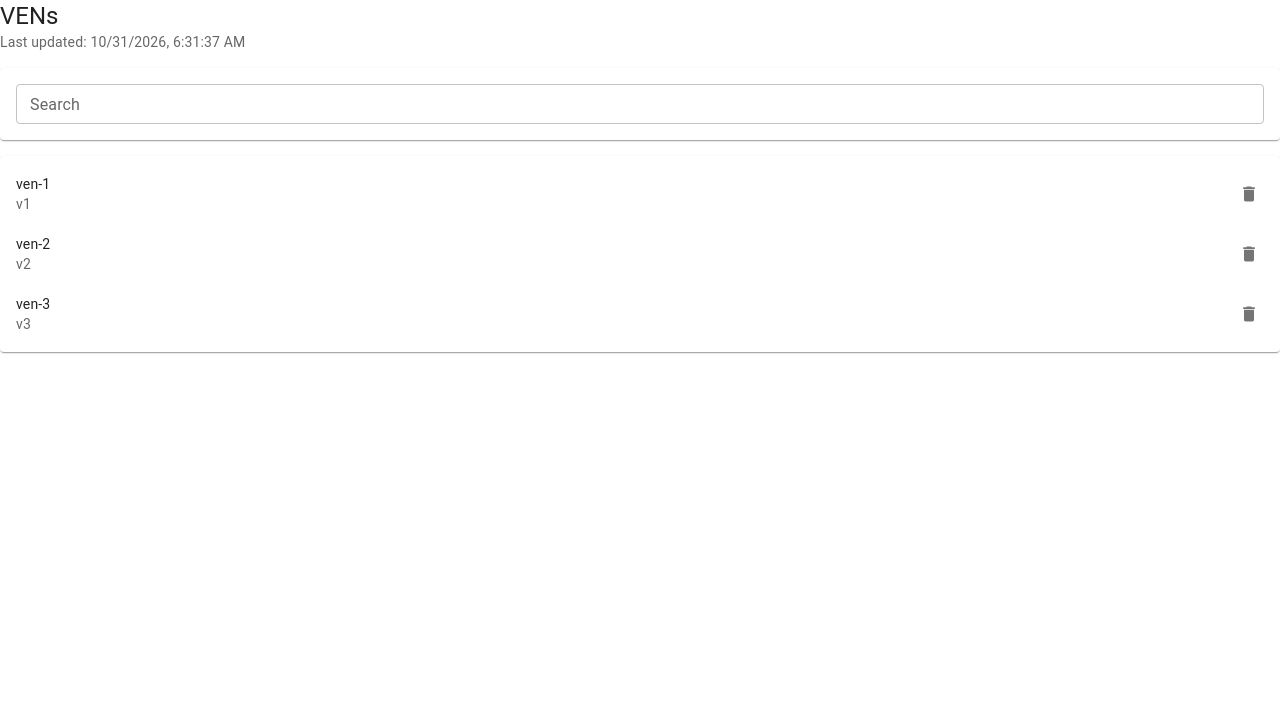
Test: VensPage › opens confirm dialog on VEN delete click
The width and height of the screenshot is (1280, 720).
Step 1. Click the button with test id "delete-ven-v1" → (1249,194), box x1=1234 y1=179 x2=1264 y2=209
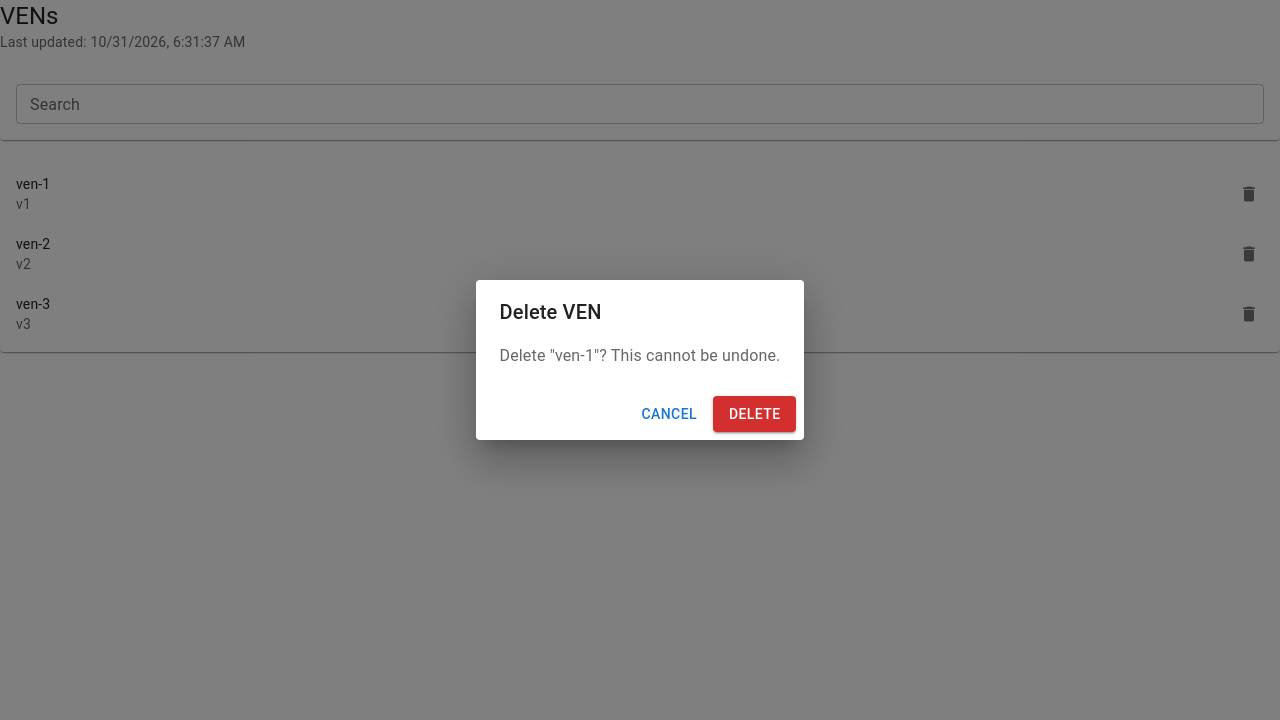
Check: the element with test id "confirm-dialog" is shown
